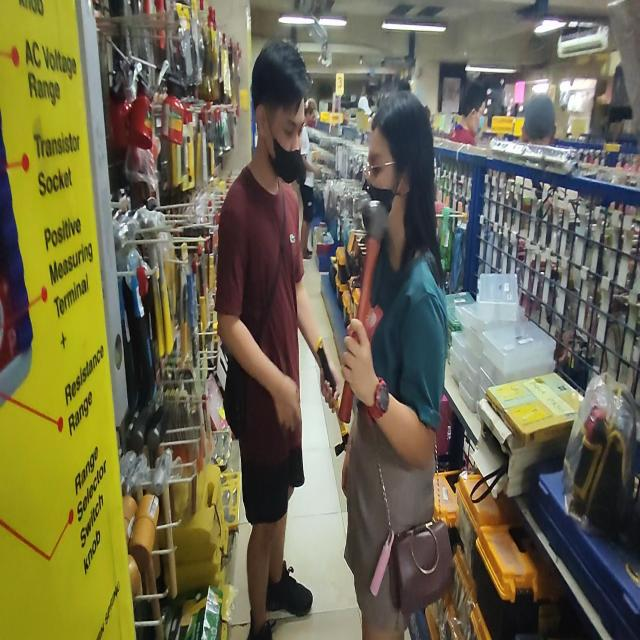hammer: (352, 190, 394, 342), (316, 338, 352, 457)
